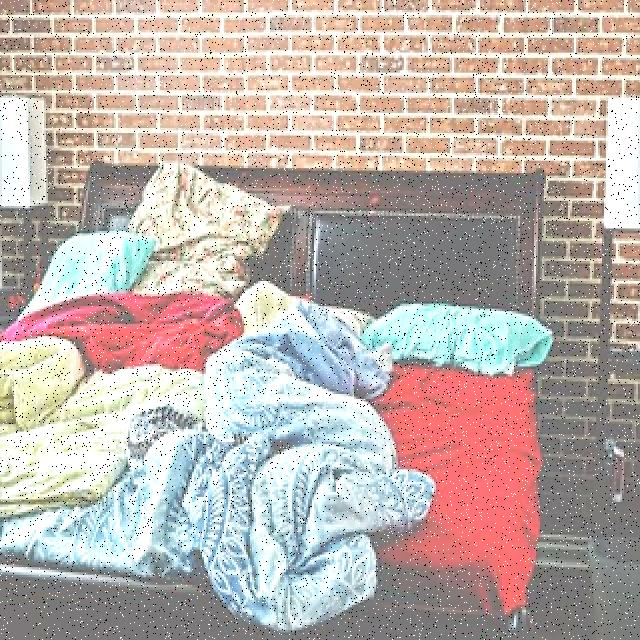bed: (0, 163, 554, 640)
